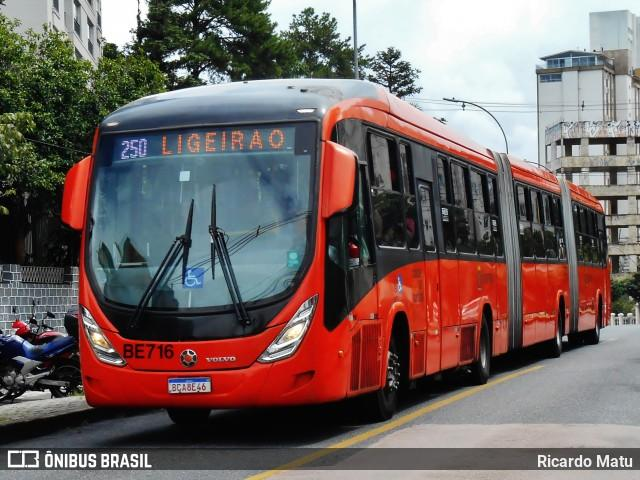LIGEIRAO: (156, 125, 291, 158)
